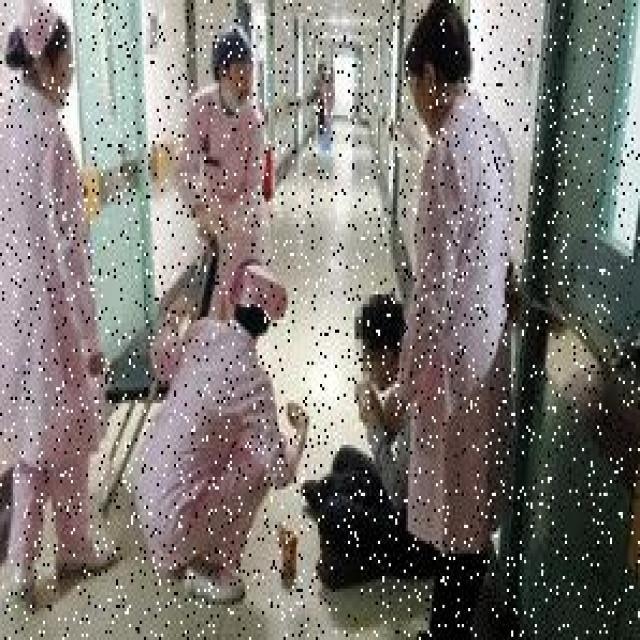fall: (311, 288, 423, 576)
